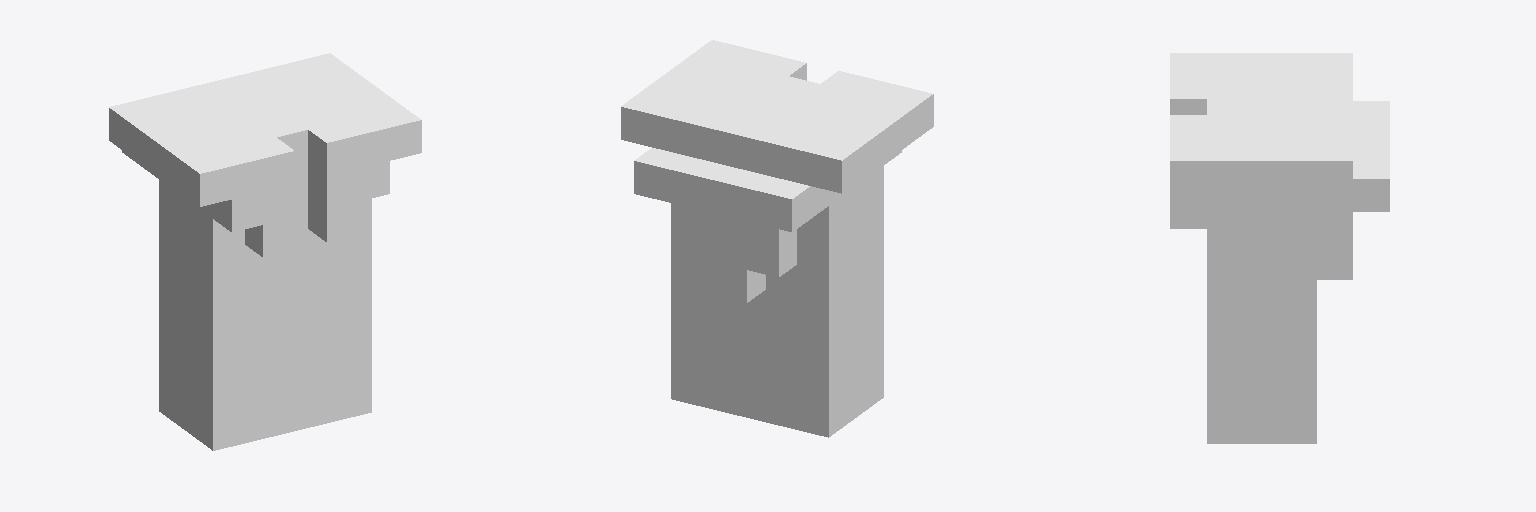
Rendered from gglive_main_body.obj.
The picture shows the model from 3 angles: view 1: azimuth 30°, elevation 25°; view 2: azimuth 150°, elevation 25°; view 3: azimuth 270°, elevation 25°; orthographic projection.
Parts seen in each view (by area): view 1: gglive_main_body; view 2: gglive_main_body; view 3: gglive_main_body.
Part boxes in pixels (bbox=[...]): gglive_main_body: bbox=[109, 53, 421, 450]; gglive_main_body: bbox=[621, 40, 933, 437]; gglive_main_body: bbox=[1170, 53, 1389, 443].
Size of the model in its own units: 7 by 9 by 6.